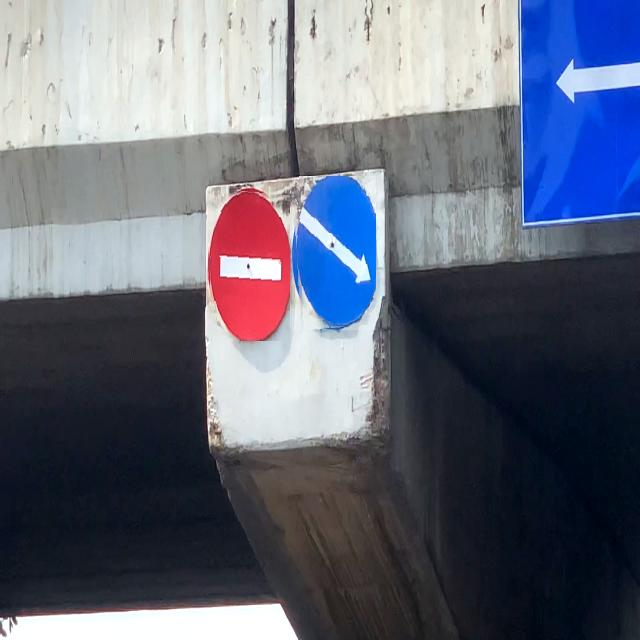27: (292, 176, 376, 330)
bien_chi_dan: (208, 188, 290, 341)
